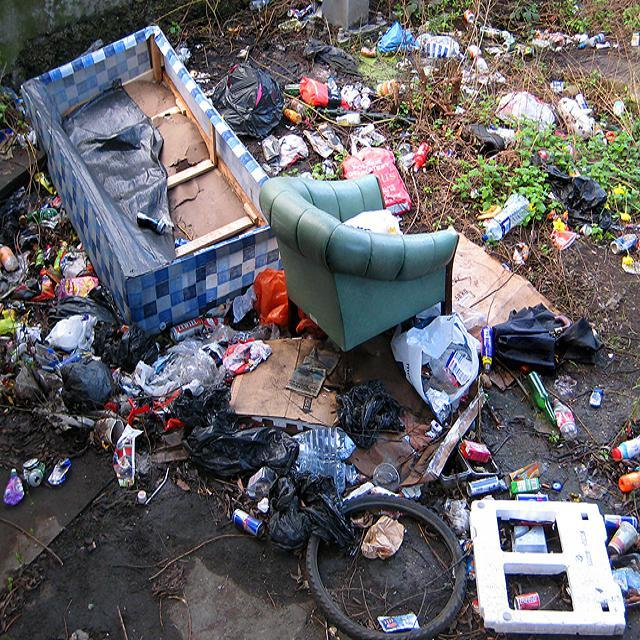garbage: (20, 16, 625, 640)
